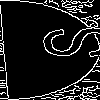S: (25, 25, 100, 60)
